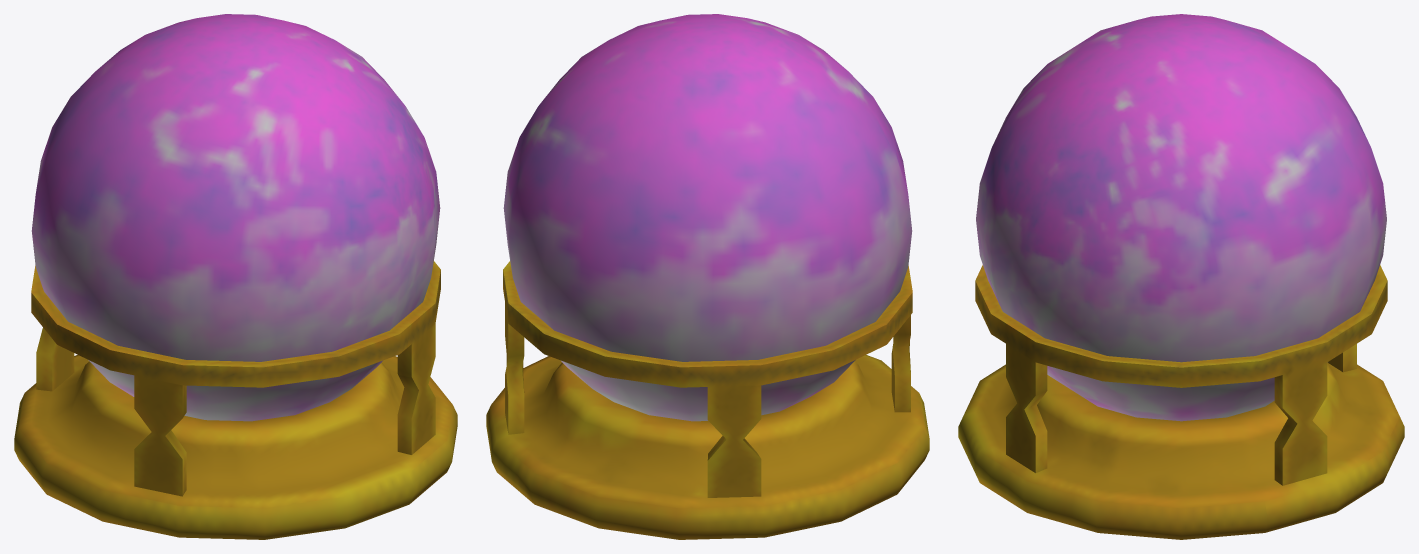
Rendered from star-compass.glb.
The picture shows the model from 3 angles, left to right: view 1: azimuth 30°, elevation 25°; view 2: azimuth 150°, elevation 25°; view 3: azimuth 270°, elevation 25°; orthographic projection.
Parts seen in each view (by area): view 1: item_star-compass; view 2: item_star-compass; view 3: item_star-compass.
Part boxes in pixels (x1,y1,x2,y2): item_star-compass: [14, 14, 457, 539]; item_star-compass: [486, 14, 929, 539]; item_star-compass: [958, 14, 1404, 539].
Size of the model in its own units: 0.9655 by 1 by 0.9655.
Materials: 1 (1 with a texture image).
